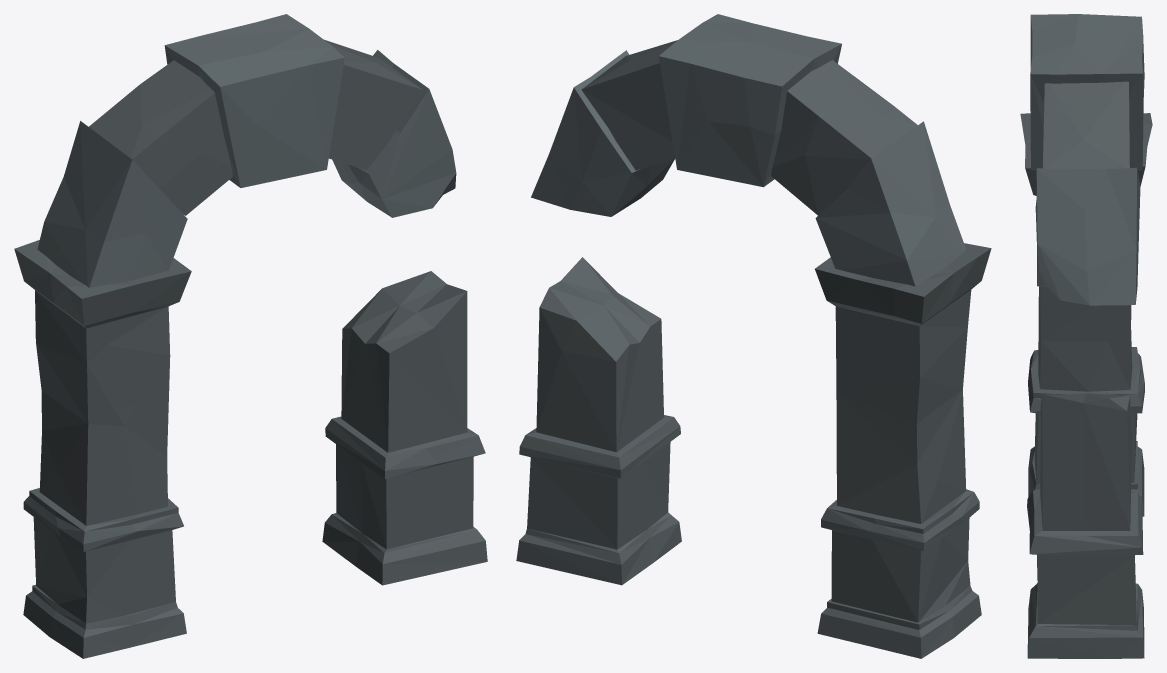
The model's file is Ruins_01.fbx.
The picture shows the model from 3 angles, left to right: view 1: azimuth 30°, elevation 25°; view 2: azimuth 150°, elevation 25°; view 3: azimuth 270°, elevation 25°; orthographic projection. The views are drawn at different scales.
Visible parts, largest first — view 1: Ruins_01; view 2: Ruins_01; view 3: Ruins_01.
Part boxes in pixels (x1,y1,x2,y2): Ruins_01: [14, 14, 487, 658]; Ruins_01: [516, 14, 991, 658]; Ruins_01: [1020, 14, 1152, 658].
Size of the model in its own units: 215 by 271 by 62.24.
